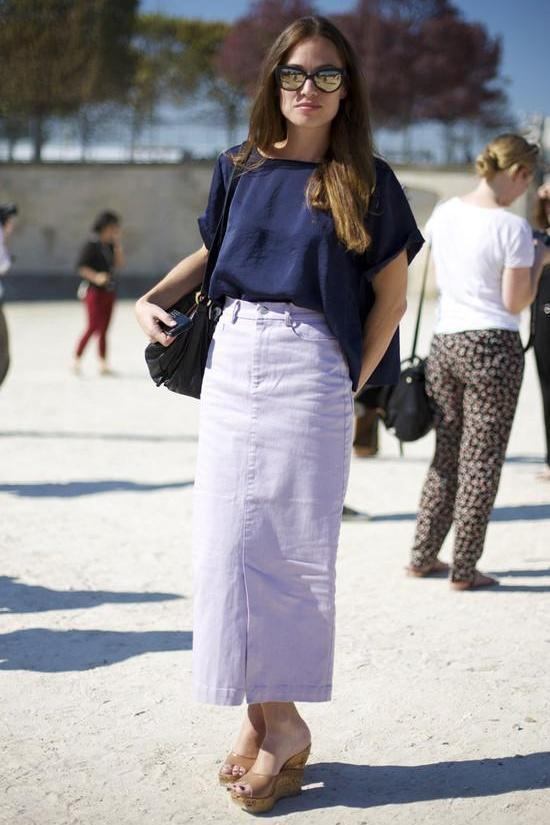Tshirt: (199, 136, 424, 396)
skirt: (189, 296, 355, 704)
